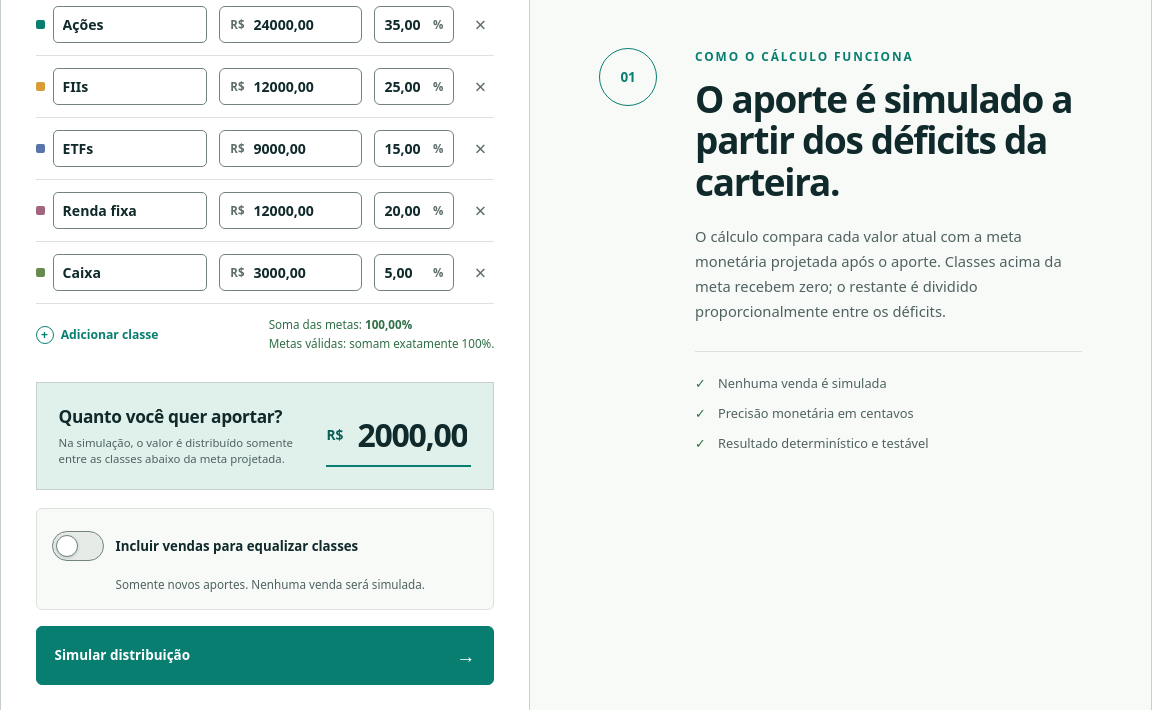
Test case: ContributionSimulator › restores the original example after starting with the synthetic overview
The width and height of the screenshot is (1152, 710).
(page scrolled)
Expected: the field named "Valor atual de Caixa" holds "3000,00", [244,255,362,290]
Click the switch labelled "Incluir vendas para equalizar classes" at (205, 546), box [52,531,358,561]
(page scrolled)
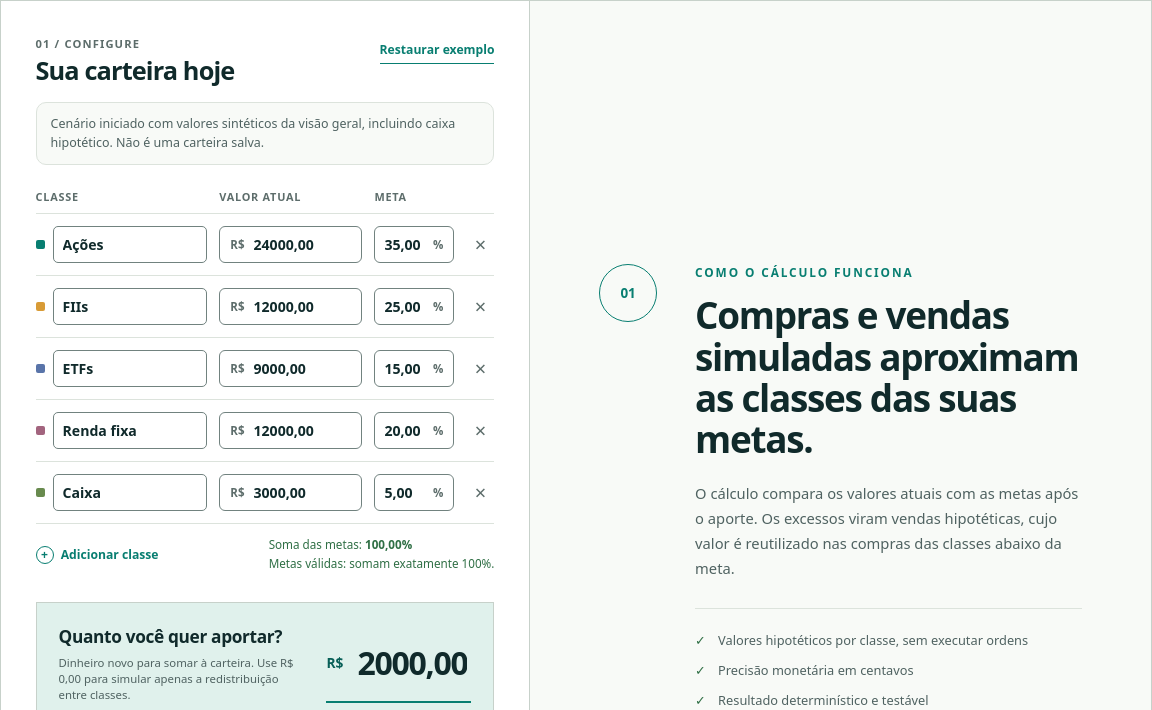
Click the button "Restaurar exemplo" at (437, 50), box [380,36,494,64]
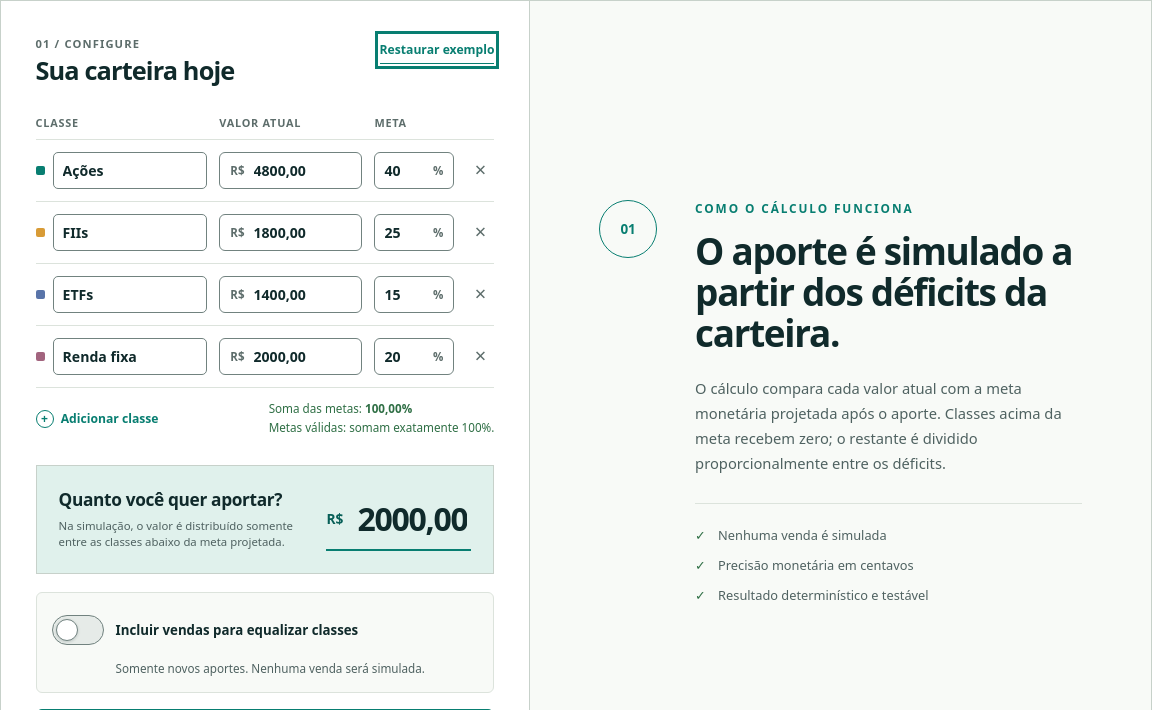
Expected: the switch labelled "Incluir vendas para equalizar classes" is not checked, [52,614,358,644]
Expected: the field named "Valor atual de Ações" holds "4800,00", [244,153,362,188]
